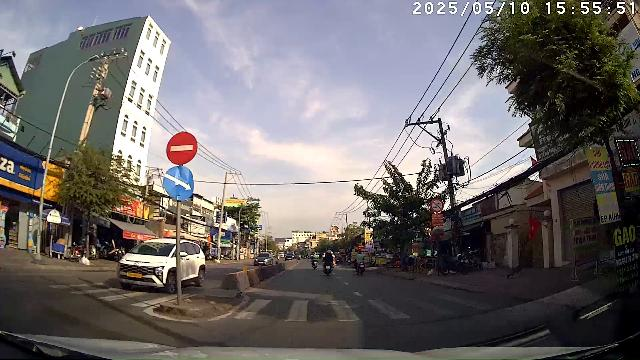102-cam-di-nguoc-chieu: (166, 131, 198, 165)
302a-huong-phai-di-vong-chuong-ngai-vat-1: (163, 166, 194, 200)
